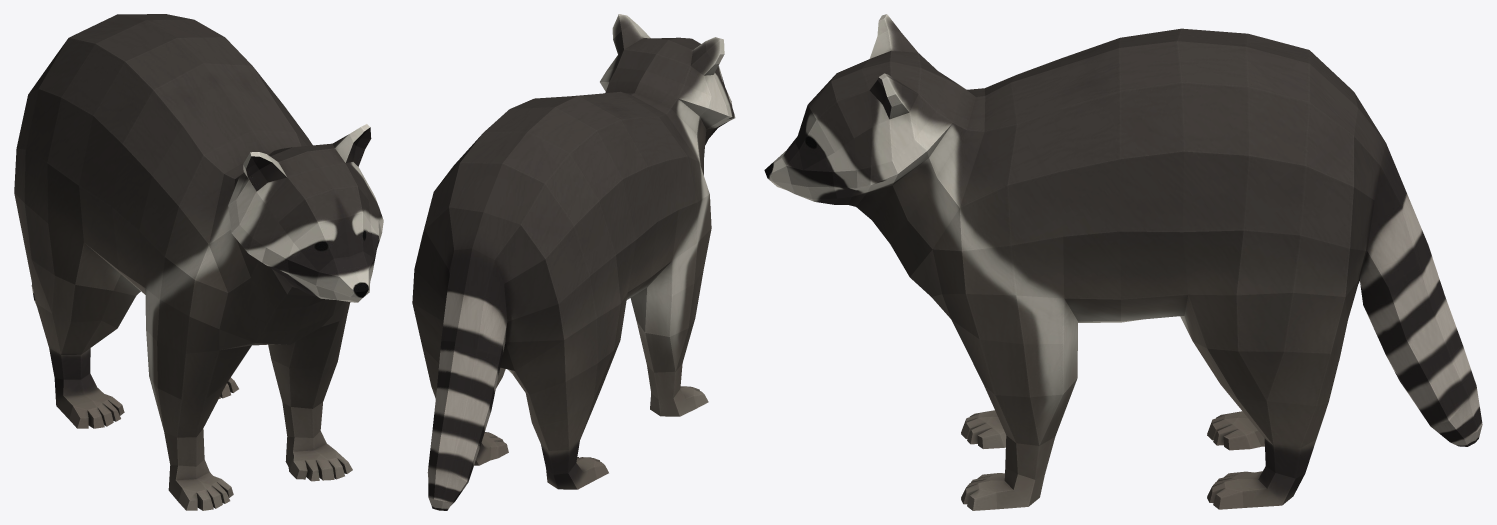
File: racoon.glb
The picture shows the model from 3 angles, left to right: view 1: azimuth 30°, elevation 25°; view 2: azimuth 150°, elevation 25°; view 3: azimuth 270°, elevation 25°; orthographic projection. The views are drawn at different scales.
Parts seen in each view (by area): view 1: Raccoon_Mesh; view 2: Raccoon_Mesh; view 3: Raccoon_Mesh.
Boxes of the visible parts, x1,y1,x2,y2 form: Raccoon_Mesh: [14, 14, 383, 510]; Raccoon_Mesh: [412, 14, 735, 510]; Raccoon_Mesh: [764, 14, 1482, 510].
Bounding box in the file's own units: 1.83 × 3.29 × 5.03.
1 material, 1 textured.
